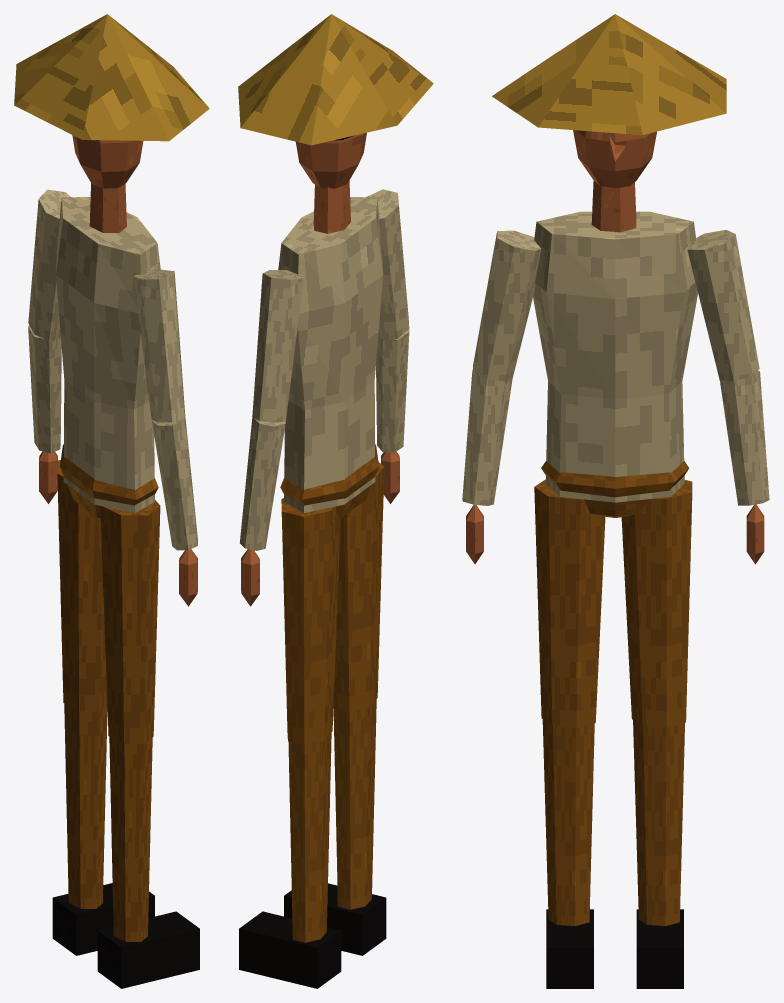
Rendered from campesino.glb.
3 renders of one model, left to right at view 1: azimuth 30°, elevation 25°; view 2: azimuth 150°, elevation 25°; view 3: azimuth 270°, elevation 25°, orthographic.
Visible parts, largest first — view 1: torso, sombrero, muslo_der, muslo_izq, pierna_der, pierna_izq, brazo_der, pie_der, antebrazo_der, brazo_izq, antebrazo_izq, pie_izq (+5 smaller); view 2: torso, sombrero, muslo_izq, muslo_der, pierna_izq, pierna_der, brazo_izq, pie_izq, antebrazo_izq, brazo_der, antebrazo_der, pie_der (+5 smaller); view 3: torso, sombrero, muslo_der, muslo_izq, pierna_der, pierna_izq, brazo_izq, brazo_der, antebrazo_izq, antebrazo_der, cabeza, pelvis (+5 smaller).
Part boxes in pixels (x1,y1,x2,y2): torso: (56,197,160,512); sombrero: (14,14,209,141); muslo_der: (100,500,160,743); muslo_izq: (57,460,107,711); pierna_der: (109,737,152,941); pierna_izq: (64,703,107,908); brazo_der: (133,269,185,422); pie_der: (97,911,199,988); antebrazo_der: (151,416,197,550); brazo_izq: (28,189,70,340); antebrazo_izq: (28,325,61,453); pie_izq: (52,883,154,955); torso: (278,197,382,512); sombrero: (238,14,433,145); muslo_izq: (281,498,340,744); muslo_der: (333,462,384,712); pierna_izq: (288,733,331,942); pierna_der: (333,699,376,909); brazo_izq: (252,270,303,422); pie_izq: (239,911,341,988); antebrazo_izq: (239,417,285,550); brazo_der: (366,189,409,340); antebrazo_der: (376,329,409,452); pie_der: (284,883,386,955); torso: (533,211,697,502); sombrero: (492,14,726,135); muslo_der: (534,479,605,727); muslo_izq: (621,480,692,727); pierna_der: (542,719,594,926); pierna_izq: (633,720,684,925); brazo_izq: (687,230,759,381); brazo_der: (473,230,541,381); antebrazo_izq: (720,370,769,505); antebrazo_der: (462,369,512,505); cabeza: (573,130,656,188); pelvis: (541,461,688,517).
Size of the model in its own units: 0.3 by 1.7 by 0.5.
1 material, 1 textured.
